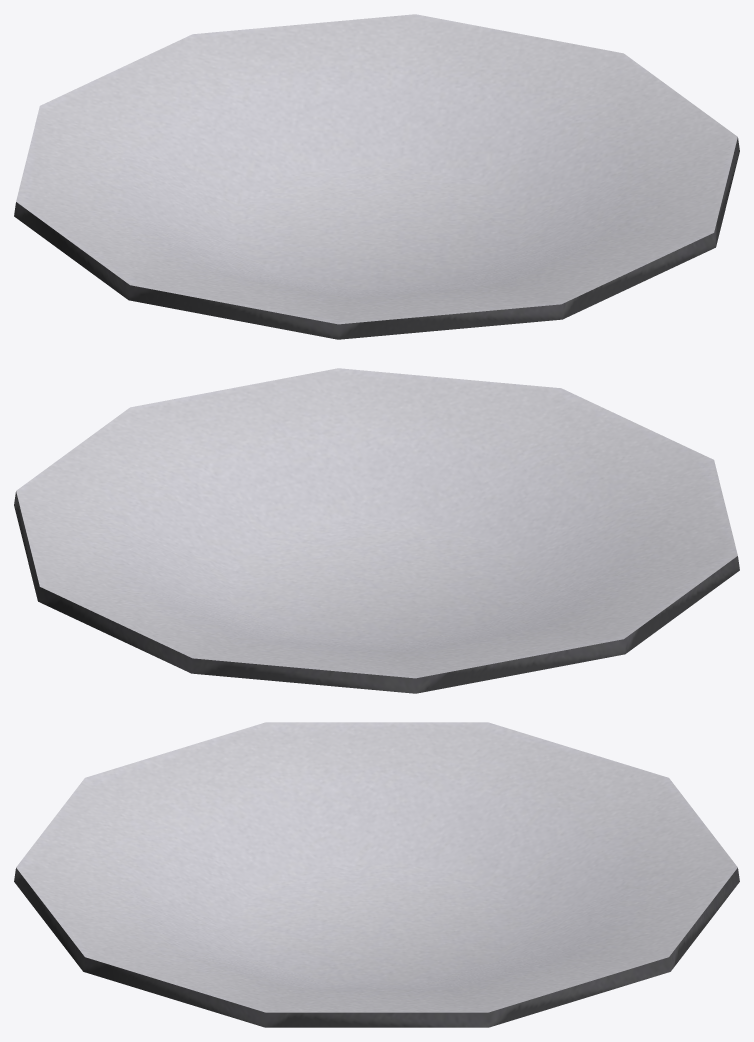
File: frl_apartment_plate_01.glb
3 renders of one model, top to bottom at view 1: azimuth 30°, elevation 25°; view 2: azimuth 150°, elevation 25°; view 3: azimuth 270°, elevation 25°, orthographic. The views are drawn at different scales.
Parts seen in each view (by area): view 1: frl_apartment_plate_01; view 2: frl_apartment_plate_01; view 3: frl_apartment_plate_01.
Part boxes in pixels (x1,y1,x2,y2): frl_apartment_plate_01: (14, 14, 739, 339); frl_apartment_plate_01: (14, 368, 739, 693); frl_apartment_plate_01: (14, 722, 739, 1027).
Bounding box in the file's own units: 0.2495 × 0.0275 × 0.2623.
1 material, 1 textured.
